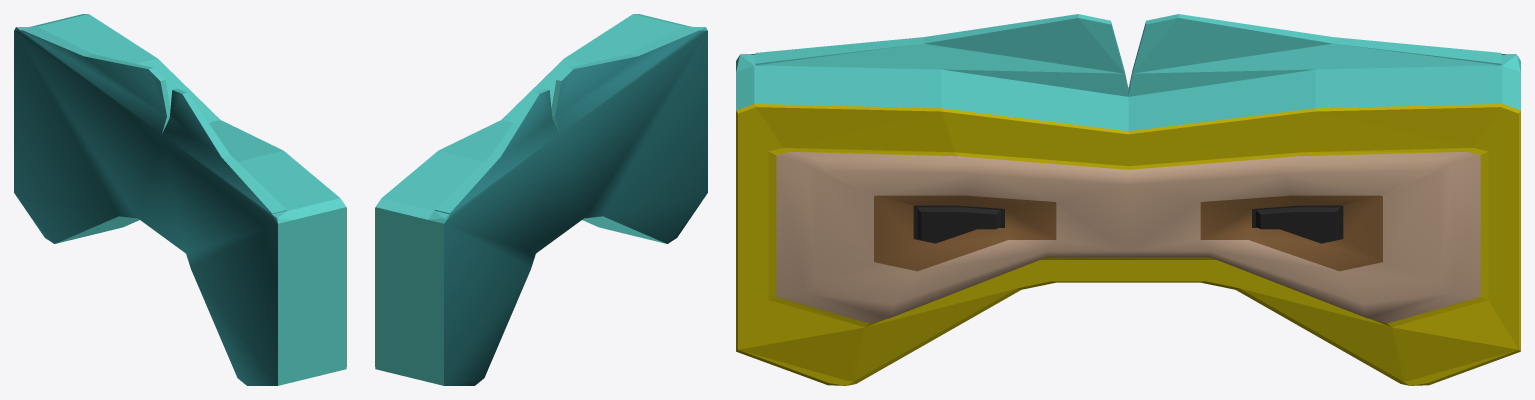
File: SM_NVG.fbx
The picture shows the model from 3 angles, left to right: view 1: azimuth 30°, elevation 25°; view 2: azimuth 150°, elevation 25°; view 3: azimuth 270°, elevation 25°; orthographic projection. The views are drawn at different scales.
Visible parts, largest first — view 1: Cube; view 2: Cube; view 3: Cube.
Boxes of the visible parts, x1,y1,x2,y2 form: Cube: [14, 14, 346, 385]; Cube: [375, 14, 707, 385]; Cube: [736, 14, 1520, 385].
Bounding box in the file's own units: 2.93 × 7.84 × 16.61.
